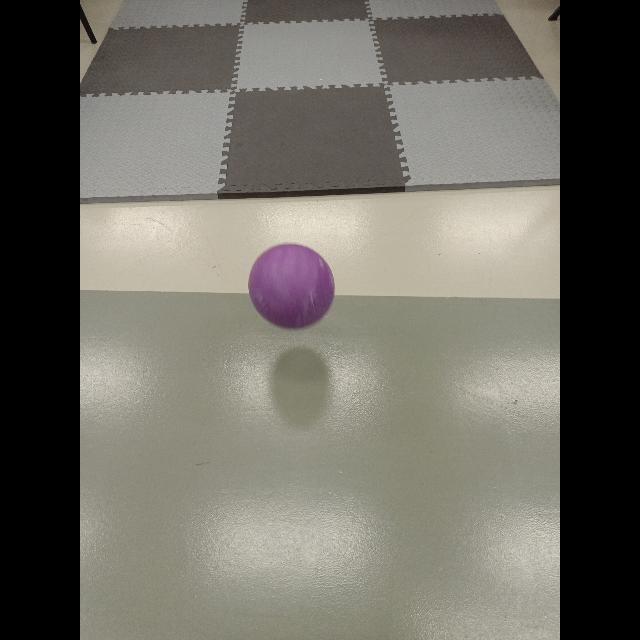P: (247, 242, 335, 328)
